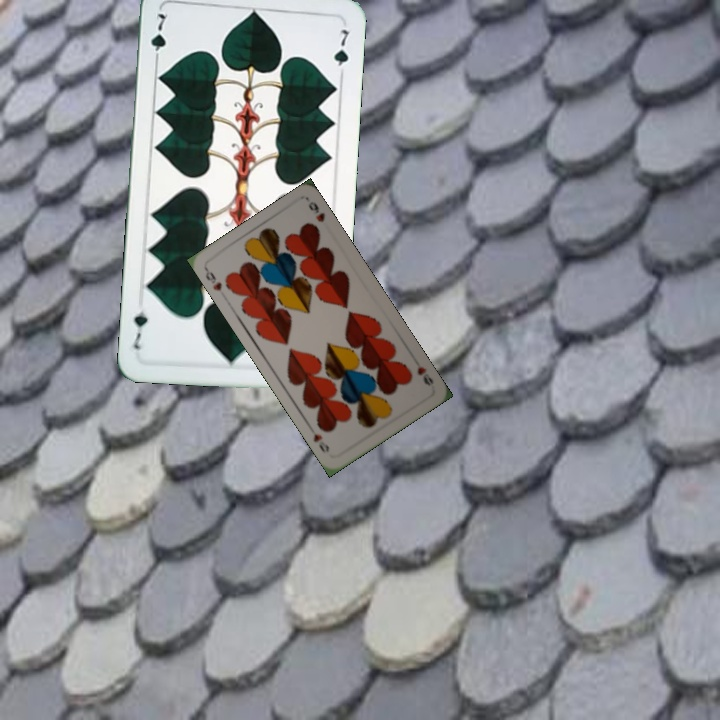G7: (147, 9, 171, 66)
H9: (201, 265, 225, 294), (413, 362, 436, 389)
